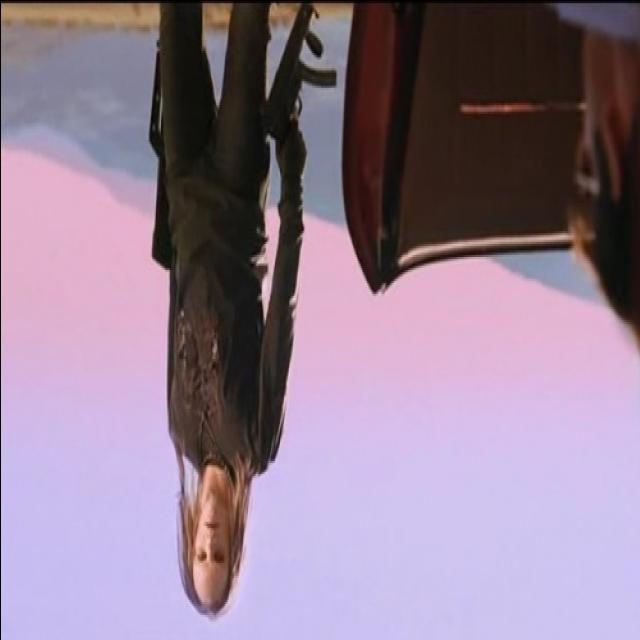weapons: (248, 0, 352, 178)
